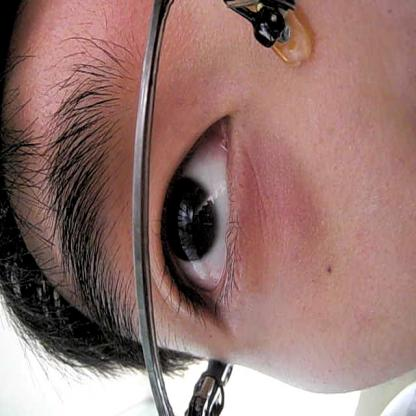Up: (148, 105, 245, 346)
